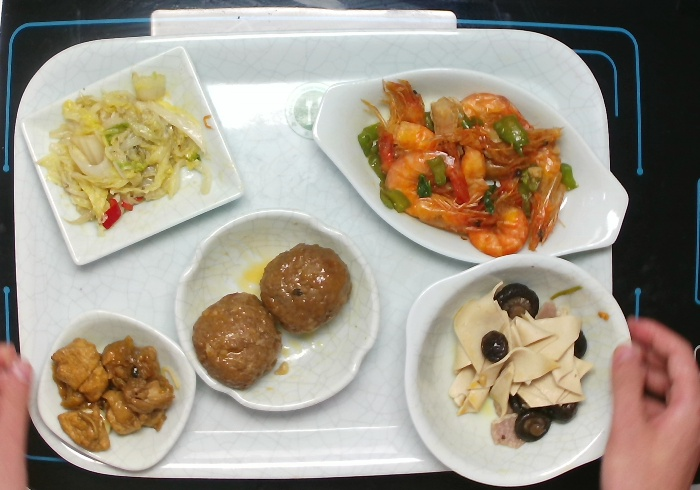JYsf-Ao_Yuan_Wan: (169, 206, 384, 417)
JYsf-Shuang_Er_Wan: (399, 249, 638, 490)
JYsf-Si_Fang_Die: (33, 304, 200, 474)
JYsf-Yu_Pan: (305, 62, 635, 269)
WCQzf-Ru_Ci_Si_Fang_Die: (15, 42, 248, 272)
